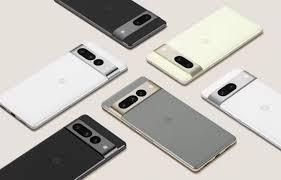Smartphone: (111, 82, 229, 172), (0, 48, 127, 117), (150, 11, 260, 78), (11, 123, 122, 180), (211, 68, 281, 151), (48, 0, 161, 45)
